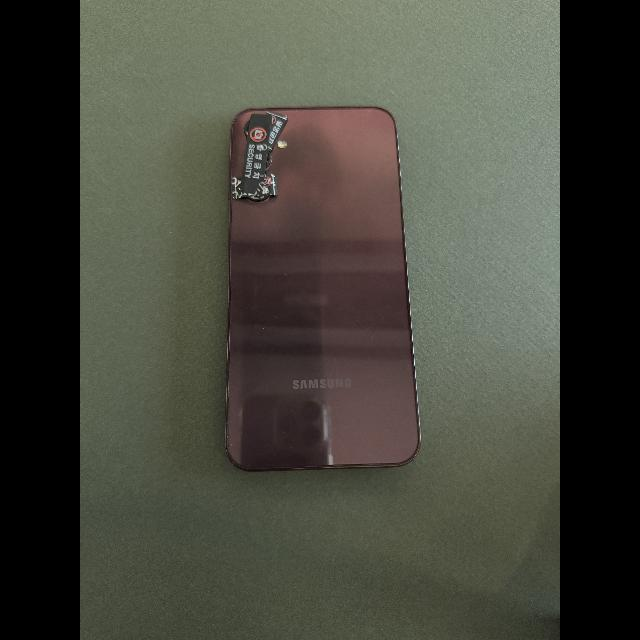lens: (245, 121, 251, 137), (266, 152, 269, 166)
phone: (225, 107, 420, 471)
sticker: (240, 114, 272, 196), (231, 173, 278, 199), (265, 111, 288, 152)
